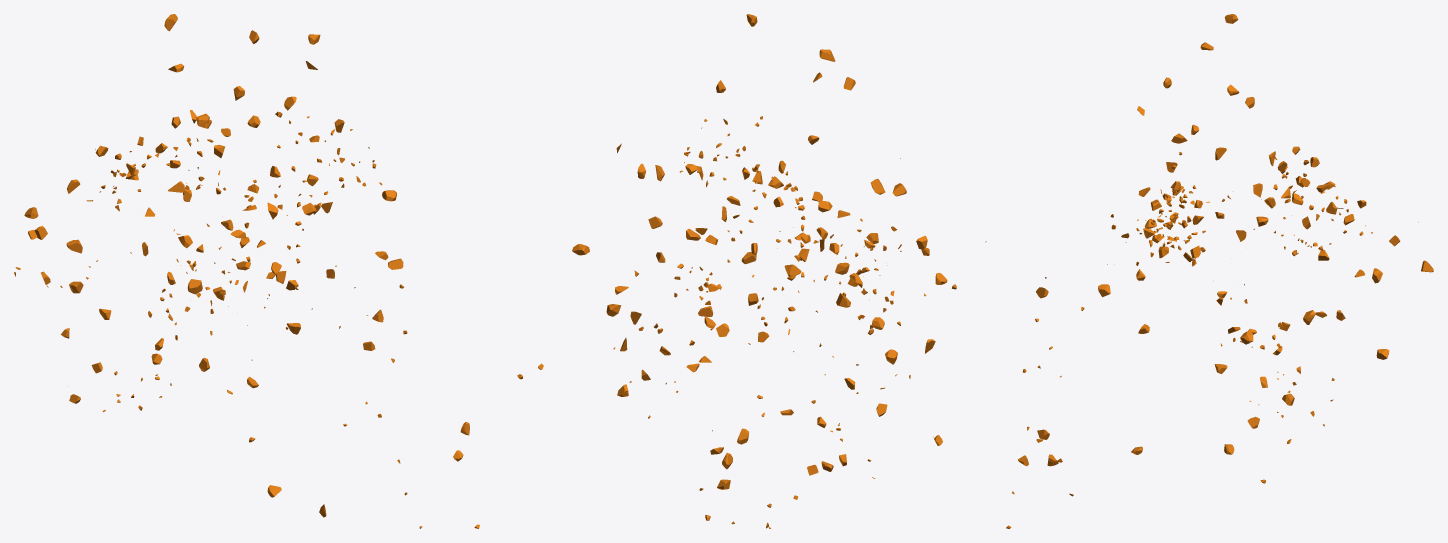
The model's file is Explode_Cube.f0025.glb.
3 renders of one model, left to right at view 1: azimuth 30°, elevation 25°; view 2: azimuth 150°, elevation 25°; view 3: azimuth 270°, elevation 25°, orthographic. The views are drawn at different scales.
Size of the model in its own units: 13.79 by 15.57 by 14.66.
